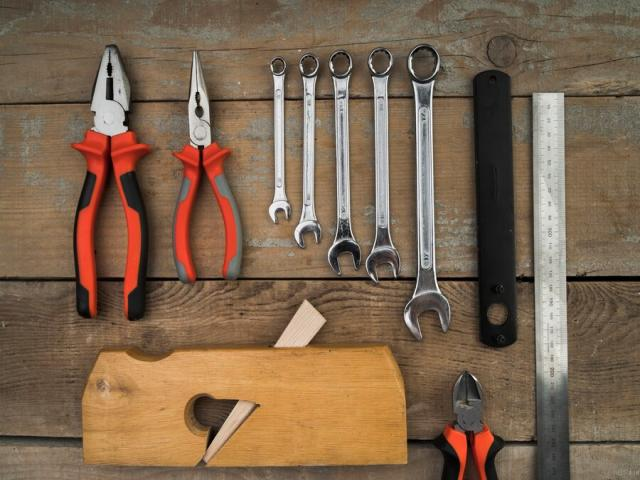Cutting pliers: (434, 371, 505, 480)
Needle-nose pliers: (172, 51, 242, 283)
Pliers: (71, 45, 151, 320)
Wrench: (404, 44, 450, 340), (365, 48, 400, 283), (328, 51, 361, 274), (294, 53, 321, 248), (269, 56, 291, 223)
